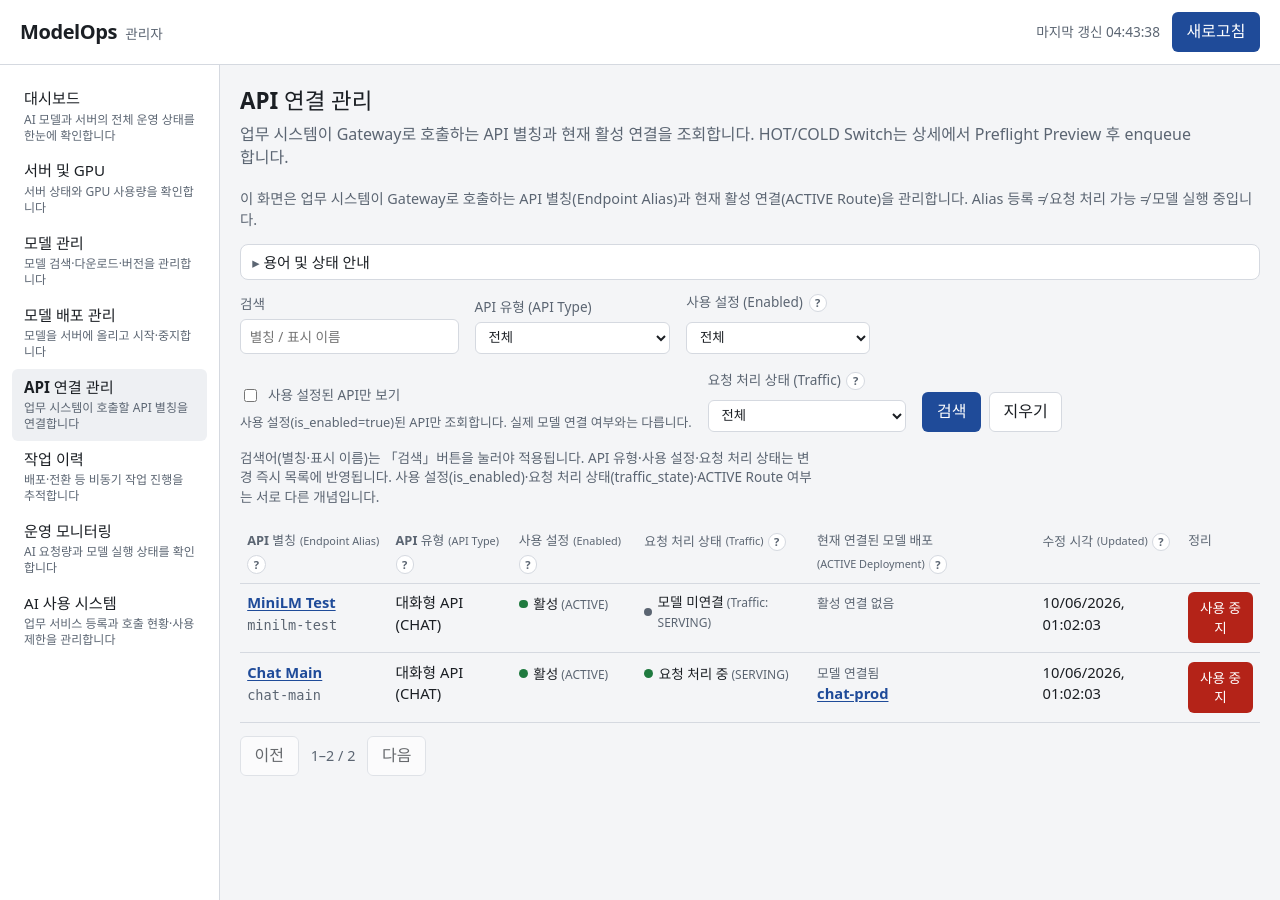
it: EndpointsPage › distinguishes unused vs connected aliases and disables unused safely
Expected: the text "활성 연결 없음" is shown, [817,594,894,612]
Expected: the text "모델 연결됨" is shown, [817,664,879,682]
What coordinates should you click on to do the following:
click the button with test id "endpoint-disable-e-unused"
I would click on:
 (1221, 618)
Its box is [1188,592,1253,643].
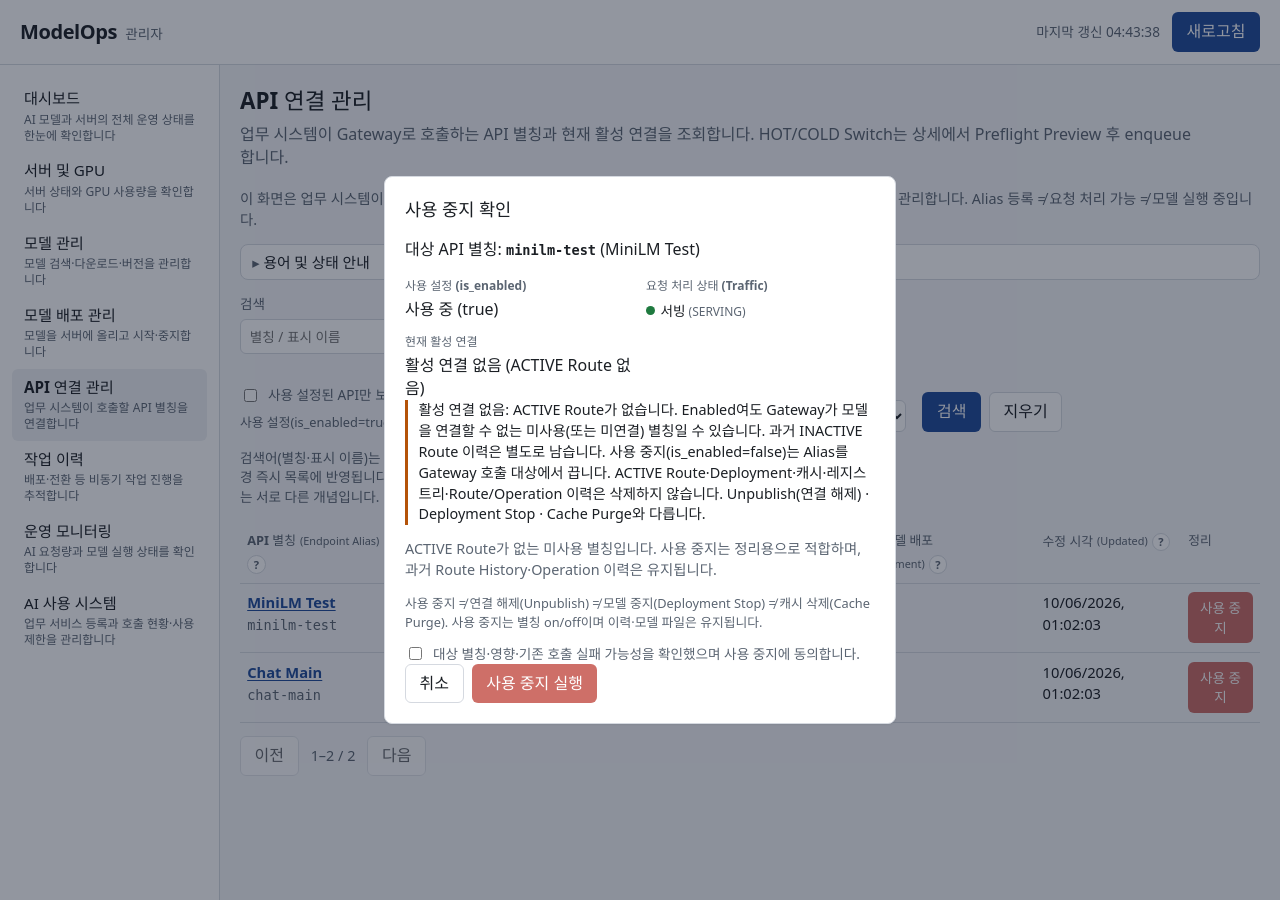
Result: the dialog with test id "endpoint-enabled-dialog" is shown
Result: the text "ACTIVE Route가 없는 미사용 별칭" is shown at [405,539,861,579]
What coordinates should you click on to do the following:
click the checkbox with test id "endpoint-enabled-consent"
I would click on:
 (416, 654)
Its box is [409,647,422,660].
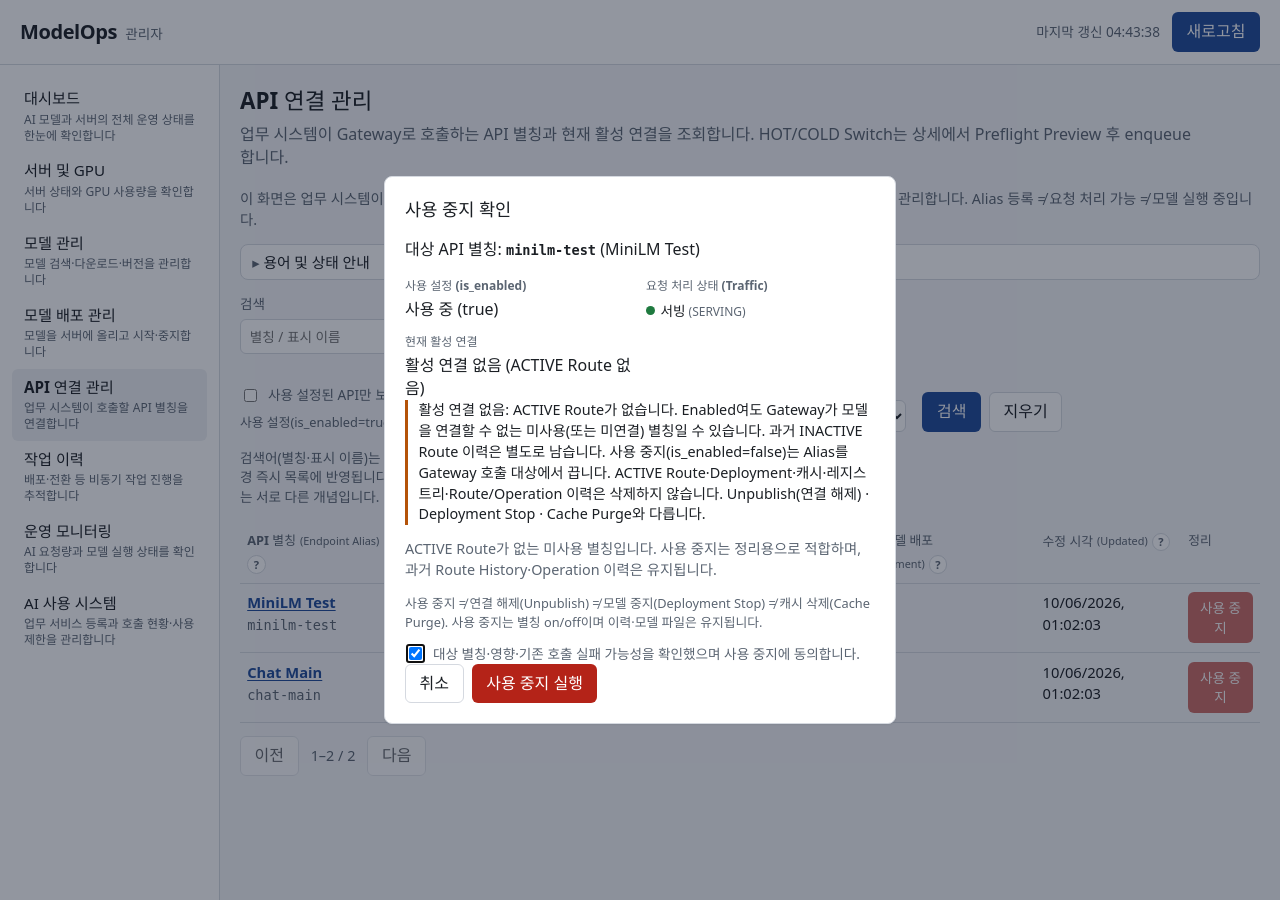
What coordinates should you click on to do the following:
click the button with test id "endpoint-enabled-confirm"
I would click on:
 (534, 684)
Its box is [472,664,597,703].
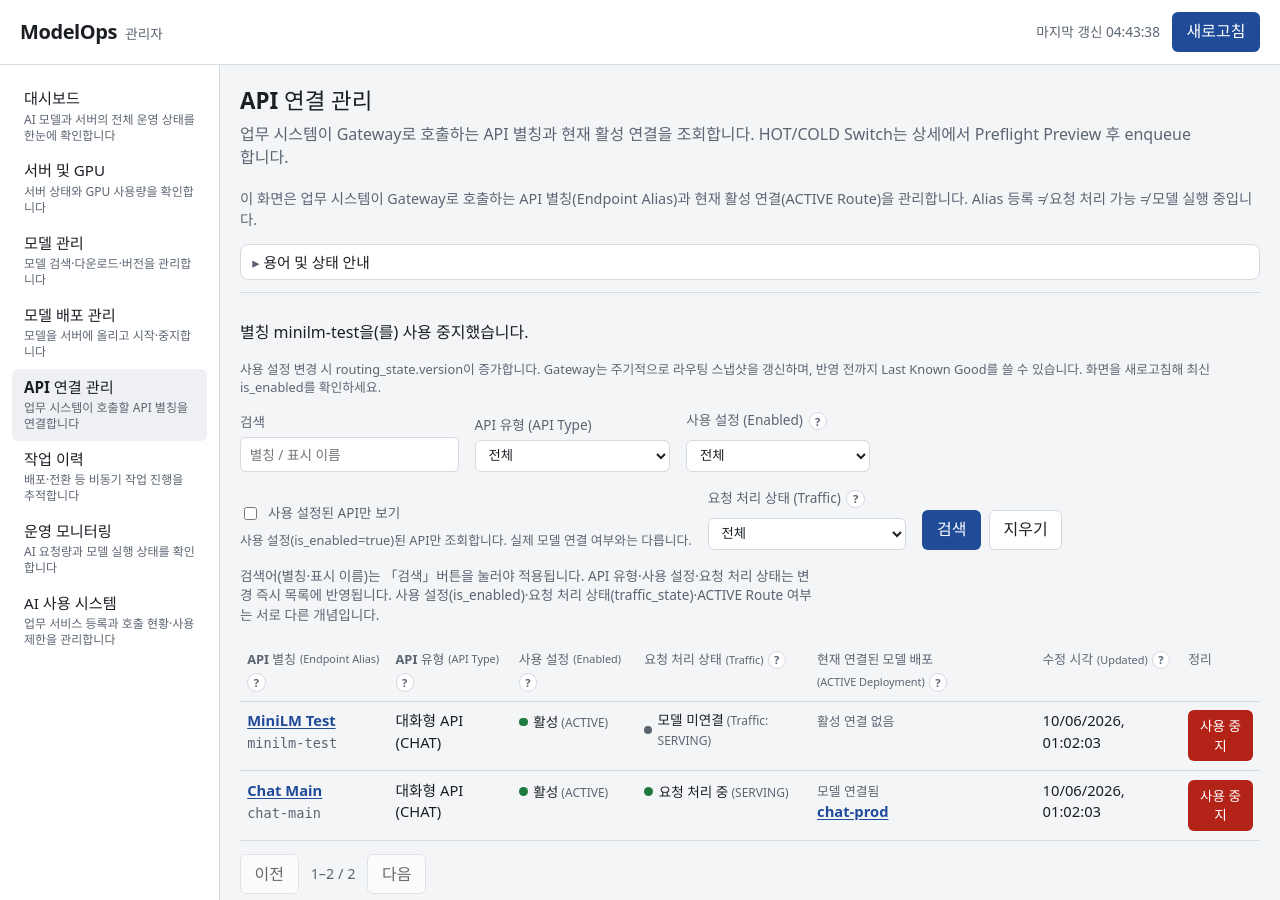
Result: the message with test id "endpoint-enabled-result" shows "사용 중지" at [240,321,529,343]
